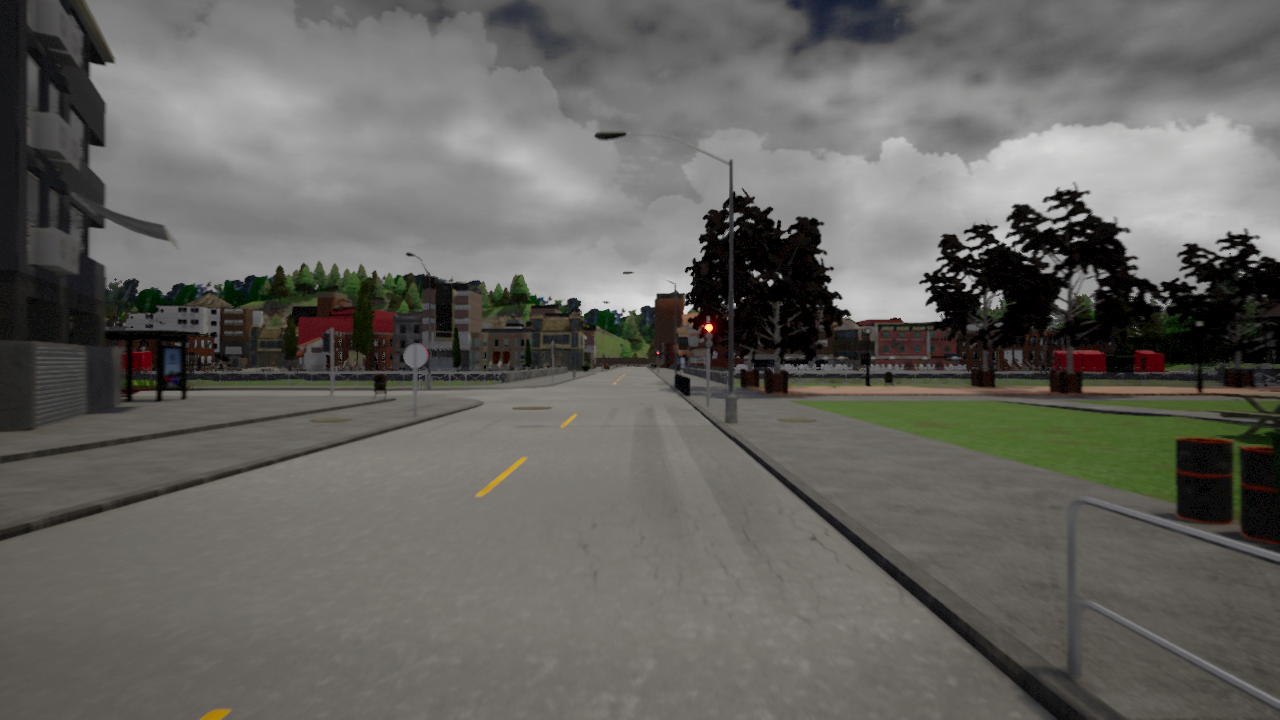red: (703, 322, 713, 347)
